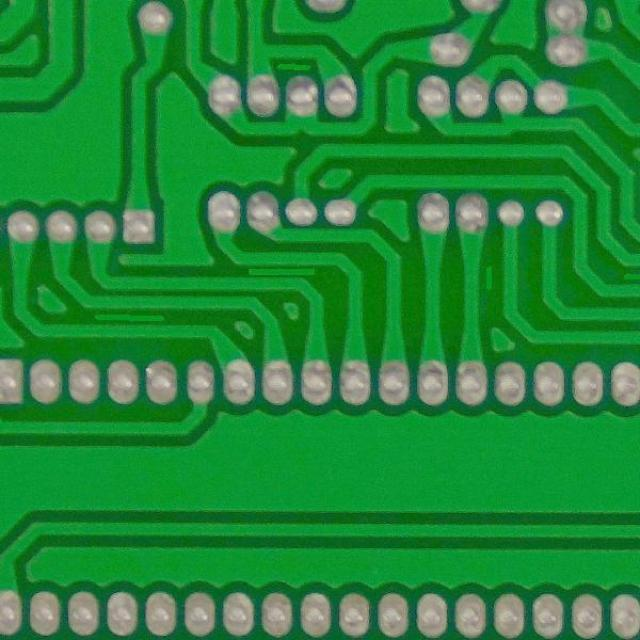Spurious_Cooper: (89, 310, 170, 326), (242, 264, 320, 280), (480, 260, 498, 294), (273, 60, 315, 74)
